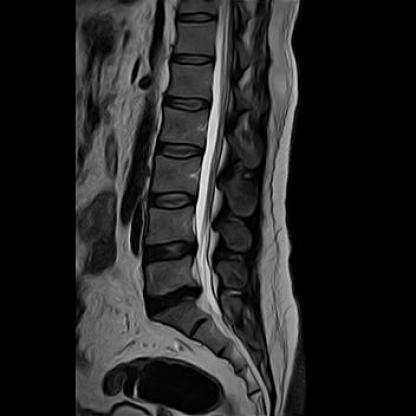Disc Bulgerotation: (145, 235, 203, 269), (144, 281, 202, 311)
